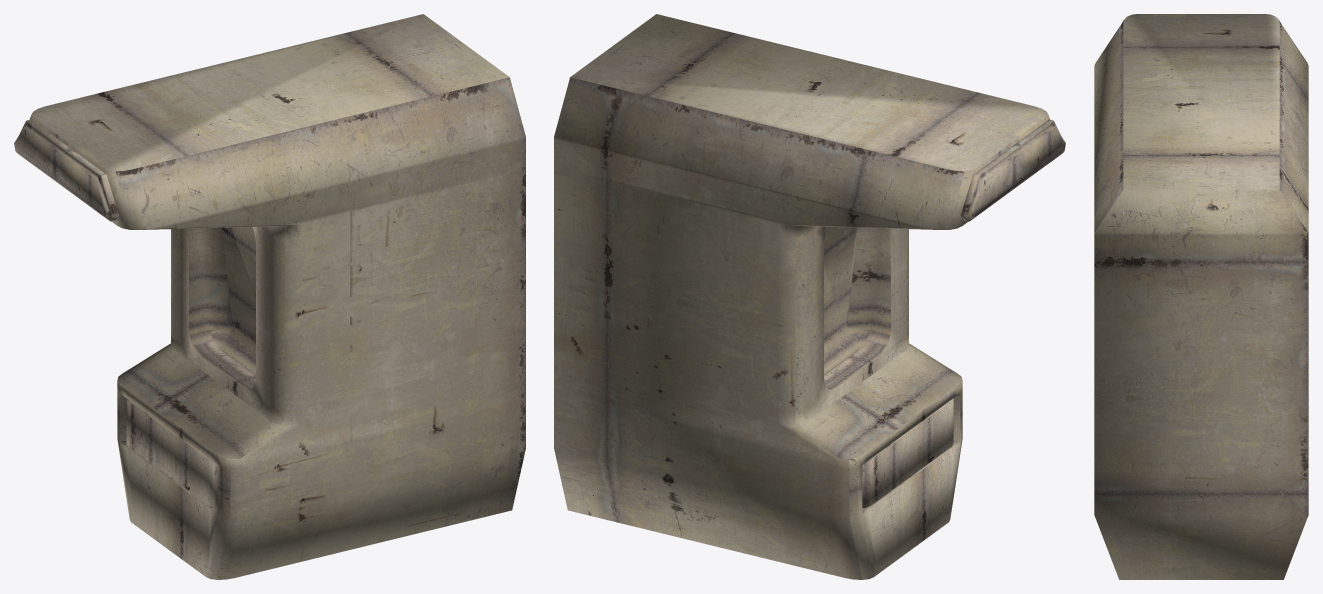
The model's file is SM_Distribubu_00.fbx.
3 renders of one model, left to right at view 1: azimuth 30°, elevation 25°; view 2: azimuth 150°, elevation 25°; view 3: azimuth 270°, elevation 25°, orthographic. The views are drawn at different scales.
Visible parts, largest first — view 1: SM_Distribubu_00, SM_Distribubu_00_tiroir; view 2: SM_Distribubu_00, SM_Distribubu_00_tiroir; view 3: SM_Distribubu_00.
Boxes of the visible parts, bbox=[...] form: SM_Distribubu_00: bbox=[14, 14, 525, 579]; SM_Distribubu_00_tiroir: bbox=[126, 398, 217, 508]; SM_Distribubu_00: bbox=[554, 14, 1065, 579]; SM_Distribubu_00_tiroir: bbox=[862, 398, 953, 508]; SM_Distribubu_00: bbox=[1094, 14, 1308, 579].
Size of the model in its own units: 335 by 340 by 169.
